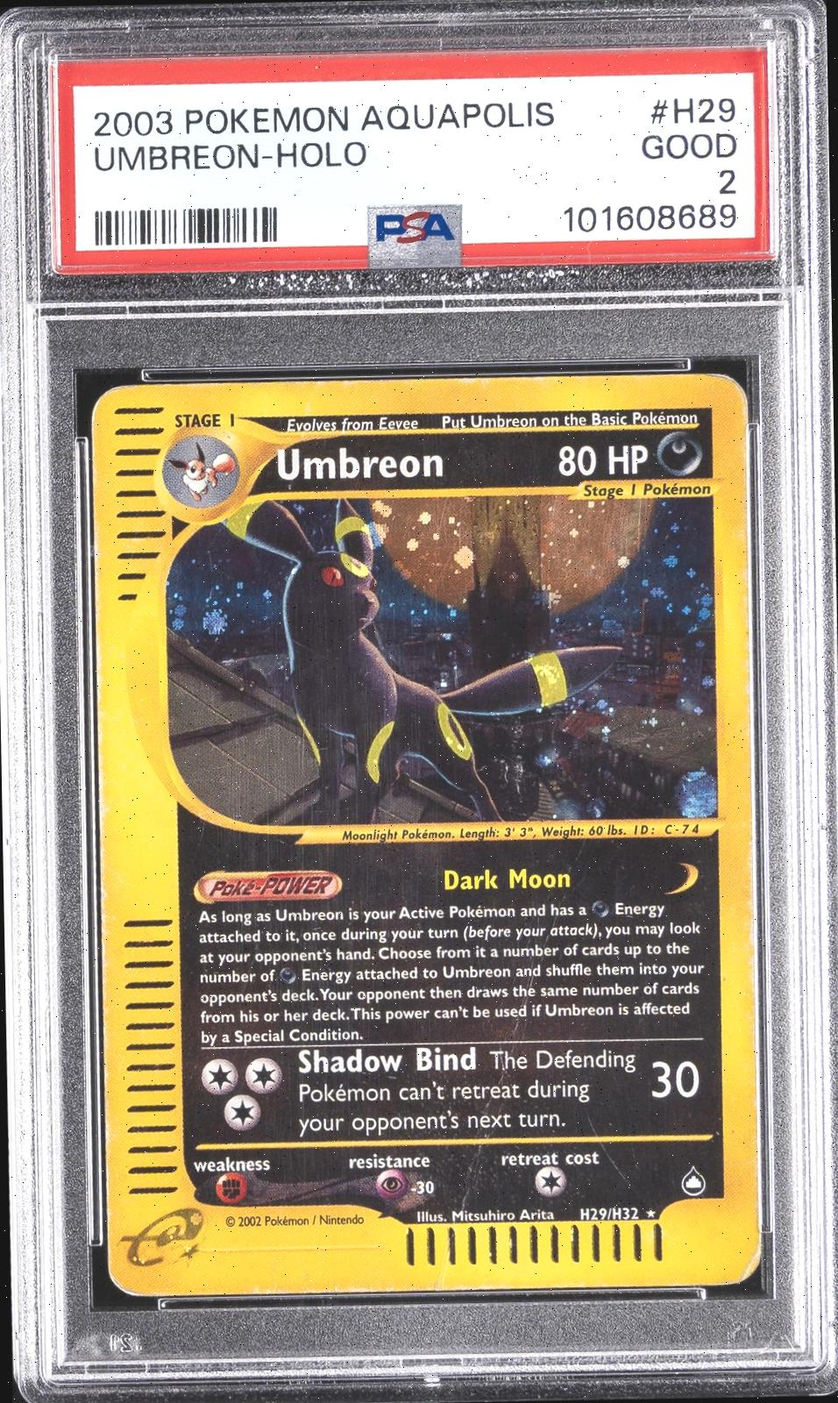card-2UtV: (91, 373, 761, 1297)
